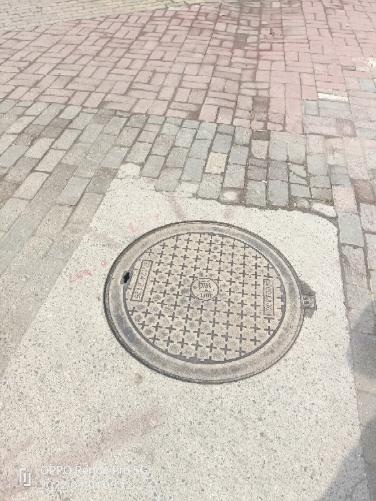wellcover: (98, 205, 322, 390)
